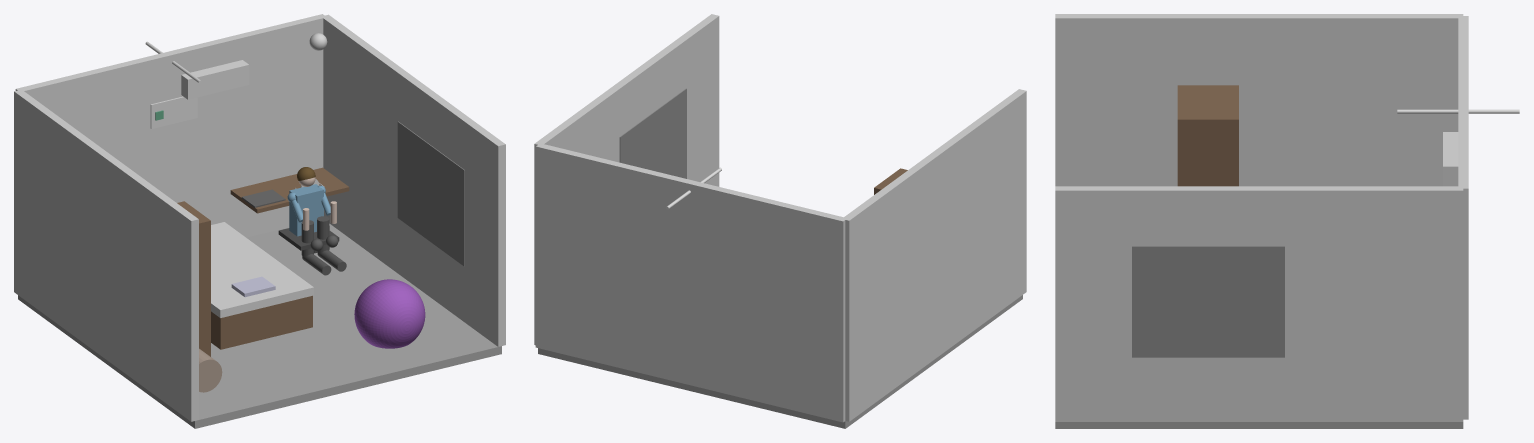
Rendered from room.glb.
3 renders of one model, left to right at view 1: azimuth 30°, elevation 25°; view 2: azimuth 150°, elevation 25°; view 3: azimuth 270°, elevation 25°, orthographic. The views are drawn at different scales.
Visible parts, largest first — view 1: wall_left, wall_back, wall_right, world, window_frame, bed_linen, bean_bag, bed_base, wooden_wardrobe, ac_unit, study_desk, branding_bg (+4 smaller); view 2: wall_back, wall_left, wall_right, window_frame, world; view 3: wall_right, wall_left, window_frame, wooden_wardrobe, wall_back, world, ac_unit, tube_light.
Boxes of the visible parts, box(x1,y1,x2,y2) form: wall_left: box(14, 89, 198, 421); wall_back: box(15, 14, 325, 237); wall_right: box(322, 14, 505, 346); world: box(18, 167, 501, 428); window_frame: box(397, 121, 464, 266); bed_linen: box(211, 222, 313, 317); bean_bag: box(354, 279, 425, 348); bed_base: box(211, 295, 312, 349); wooden_wardrobe: box(177, 201, 210, 356); ac_unit: box(181, 60, 249, 99); study_desk: box(230, 167, 349, 213); branding_bg: box(150, 96, 197, 128); wall_back: box(535, 143, 847, 422); wall_left: box(844, 89, 1026, 421); wall_right: box(534, 14, 719, 345); window_frame: box(619, 88, 686, 178); world: box(538, 295, 1022, 428); wall_right: box(1055, 186, 1463, 421); wall_left: box(1055, 14, 1463, 186); window_frame: box(1132, 246, 1284, 357); wooden_wardrobe: box(1177, 85, 1238, 186); wall_back: box(1458, 16, 1468, 419); world: box(1055, 422, 1463, 428); ac_unit: box(1443, 132, 1458, 186); tube_light: box(1397, 109, 1519, 113).
Size of the model in its own units: 4.11 by 2.6 by 4.55.
